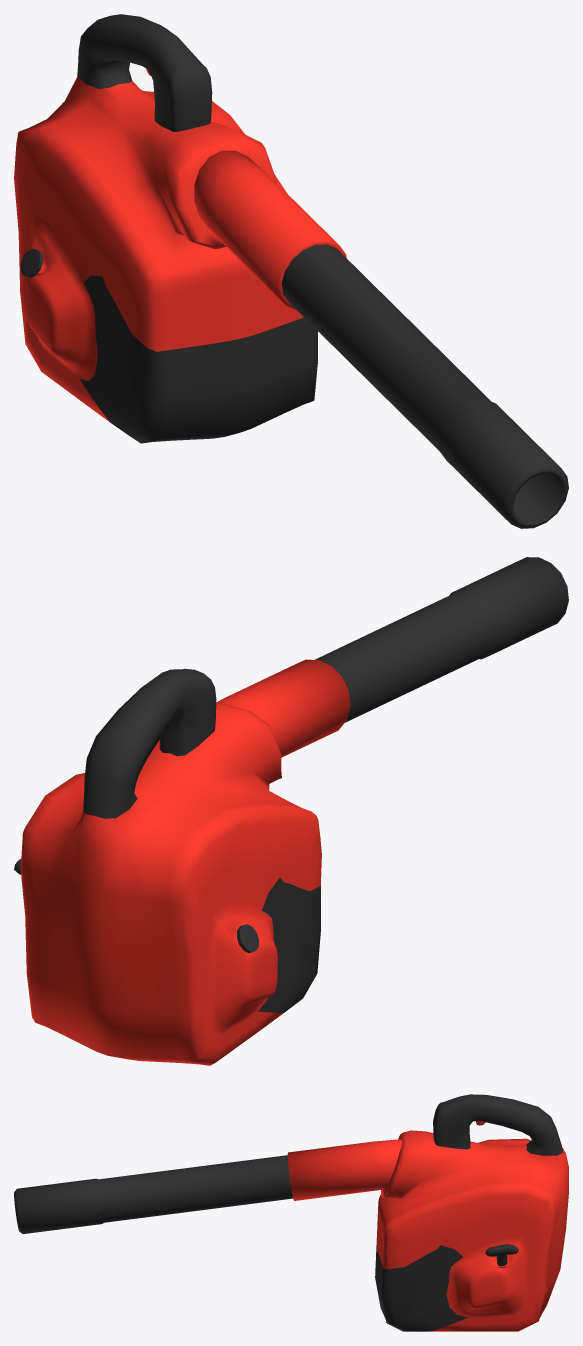
File: leaveblower.fbx
3 views of the same model, one above another, from view 1: azimuth 30°, elevation 25°; view 2: azimuth 150°, elevation 25°; view 3: azimuth 270°, elevation 25° (orthographic). The views are drawn at different scales.
Parts seen in each view (by area): view 1: Cube.001, Cube.003; view 2: Cube.001, Cube.003; view 3: Cube.001, Cube.003.
Part boxes in pixels (x1,y1,x2,y2): Cube.001: (14, 68, 346, 421); Cube.003: (20, 14, 568, 528); Cube.001: (20, 659, 350, 1065); Cube.003: (14, 557, 568, 1012); Cube.001: (287, 1121, 568, 1331); Cube.003: (14, 1094, 562, 1331).
Size of the model in its own units: 97.27 by 142 by 328.
